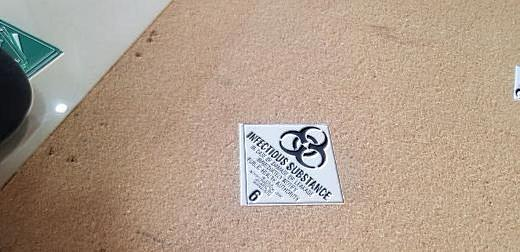infectious-substance: (239, 124, 346, 206)
